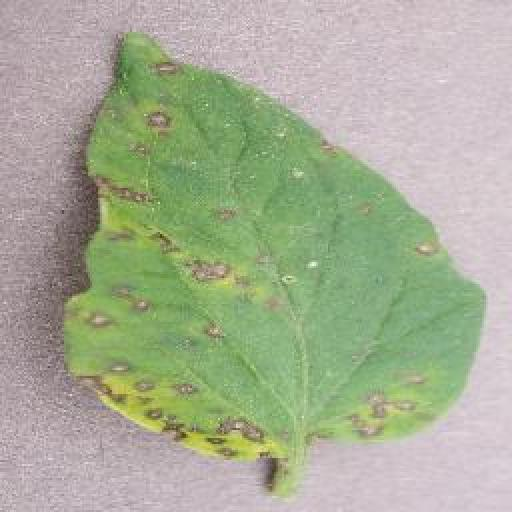disease_tomato: (60, 32, 488, 464)
